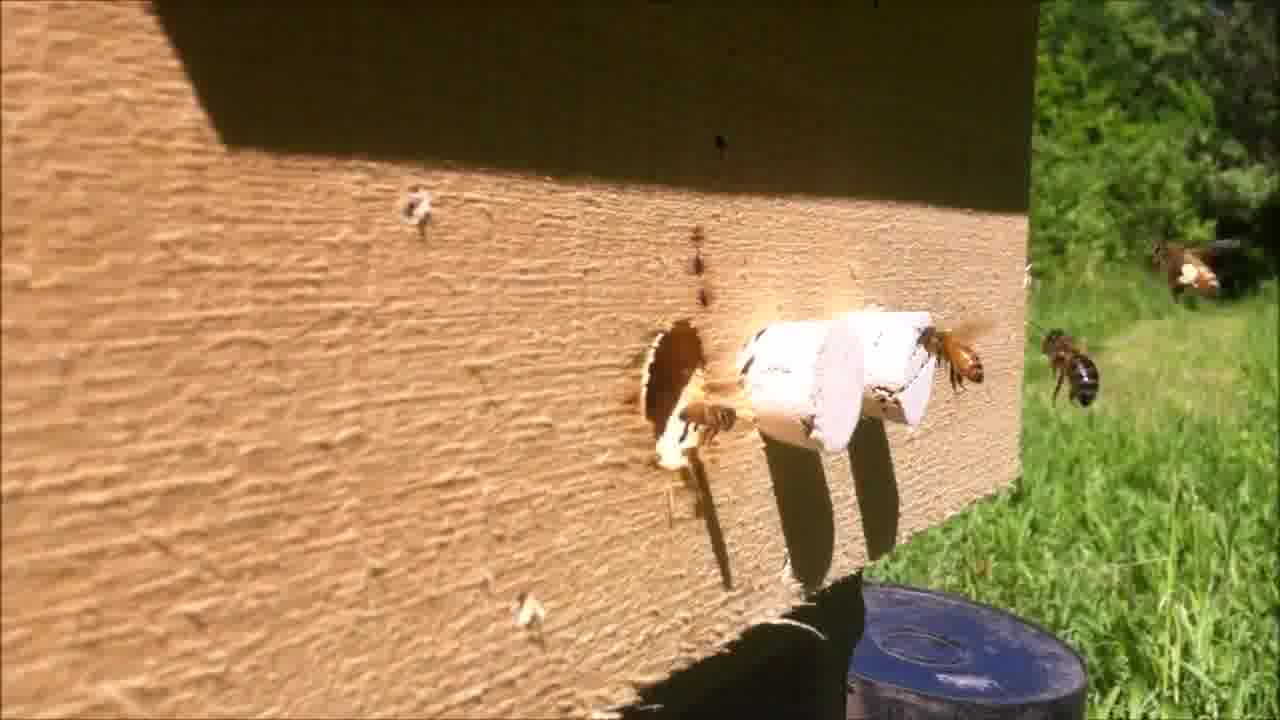pollen: (1151, 235, 1228, 302)
